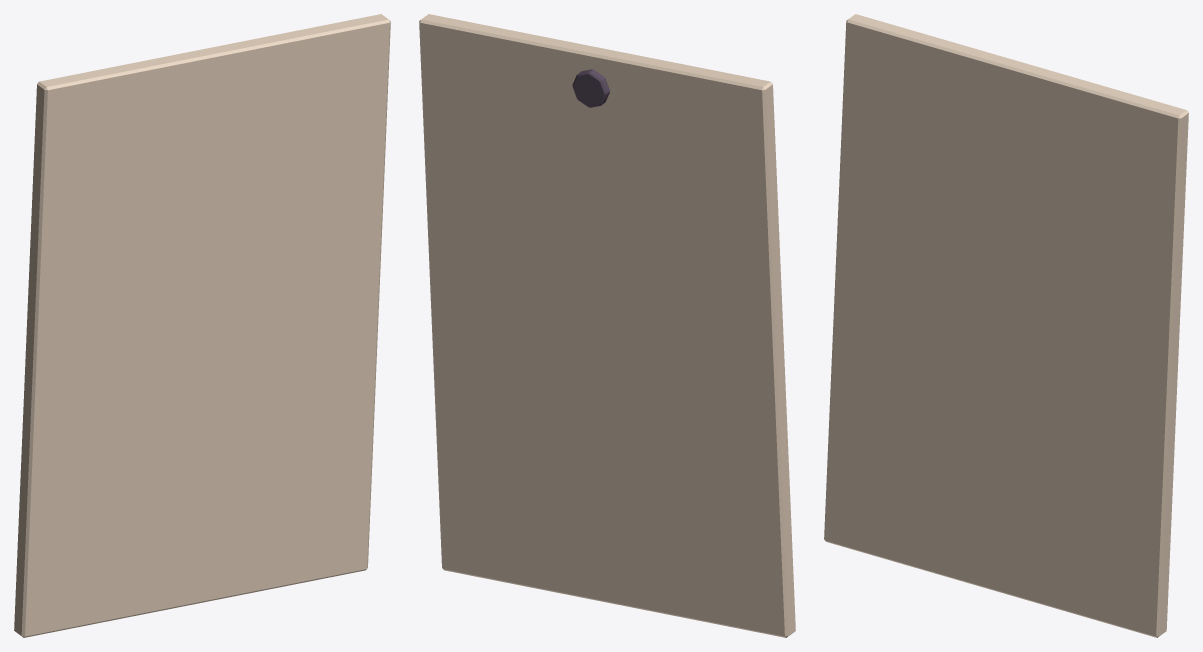
The model's file is sign_tree.fbx.
3 views of the same model, side by side, from view 1: azimuth 30°, elevation 25°; view 2: azimuth 150°, elevation 25°; view 3: azimuth 330°, elevation 25° (orthographic). The views are drawn at different scales.
Visible parts, largest first — view 1: sign_tree; view 2: sign_tree, sign_tree_nail; view 3: sign_tree.
Part boxes in pixels (<box>): sign_tree: <box>14,14,390,637</box>; sign_tree: <box>419,14,795,637</box>; sign_tree_nail: <box>572,69,609,107</box>; sign_tree: <box>824,14,1188,637</box>.
Bounding box in the file's own units: 1.07 × 1.55 × 0.0718.
